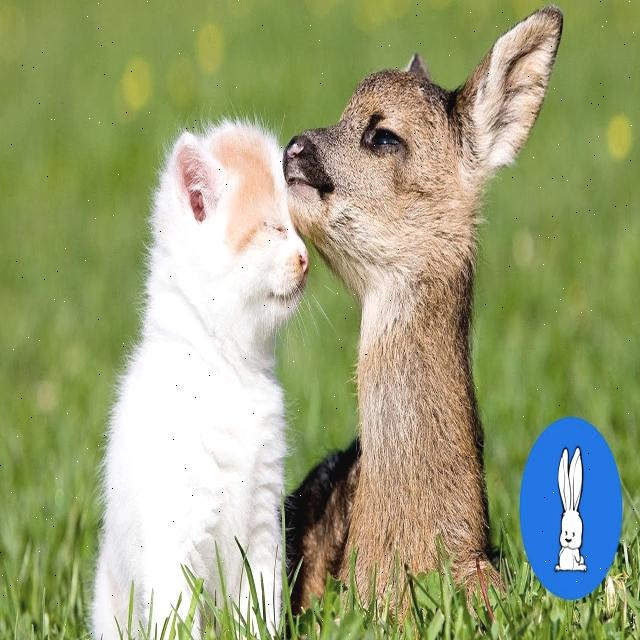deer: (292, 2, 570, 276)
